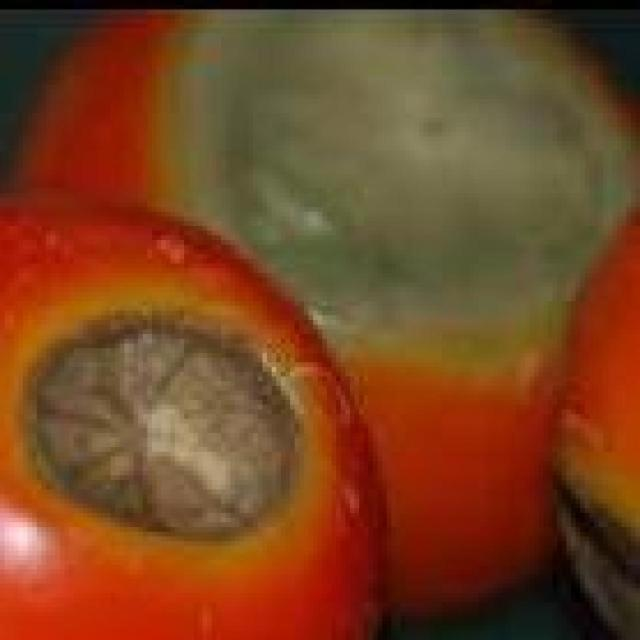Blossom End Rot Fruit: (68, 113, 387, 361)
